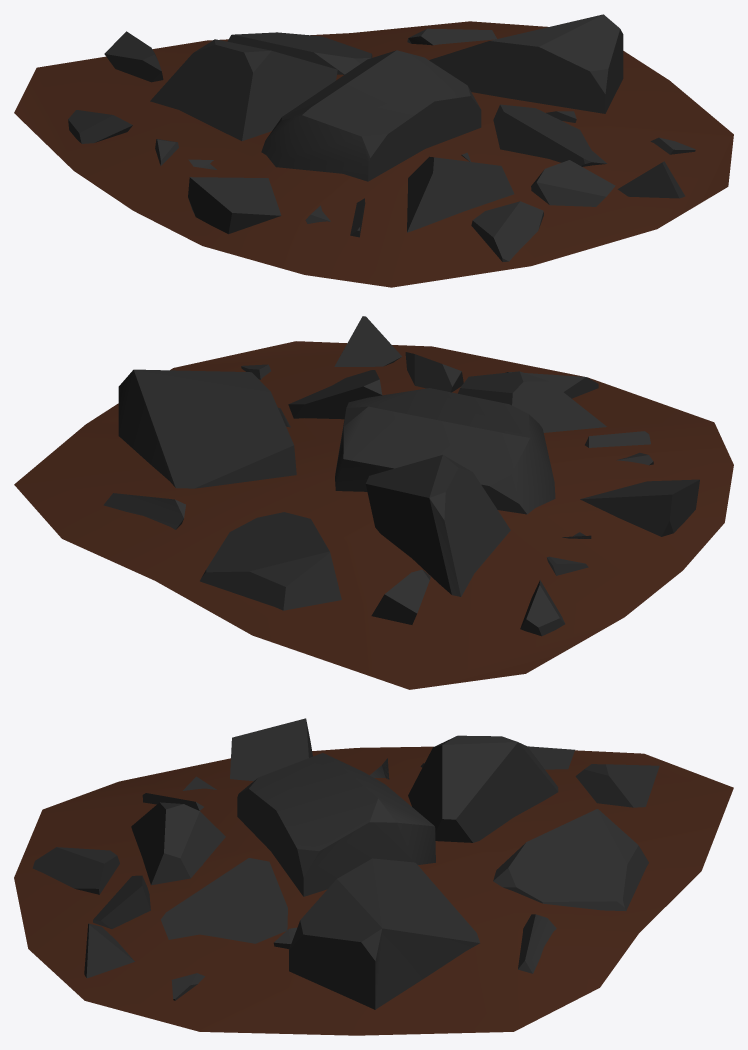
File: debris1TEST.FBX
The picture shows the model from 3 angles, top to bottom: view 1: azimuth 30°, elevation 25°; view 2: azimuth 150°, elevation 25°; view 3: azimuth 270°, elevation 25°; orthographic projection. The views are drawn at different scales.
Parts seen in each view (by area): view 1: Box002_Part_3; view 2: Box002_Part_3; view 3: Box002_Part_3.
Part boxes in pixels (left/top/right/bottom): Box002_Part_3: left=14, top=14, right=733, bottom=287; Box002_Part_3: left=14, top=316, right=733, bottom=689; Box002_Part_3: left=14, top=718, right=733, bottom=1035.
Size of the model in its own units: 122 by 22.65 by 128.
